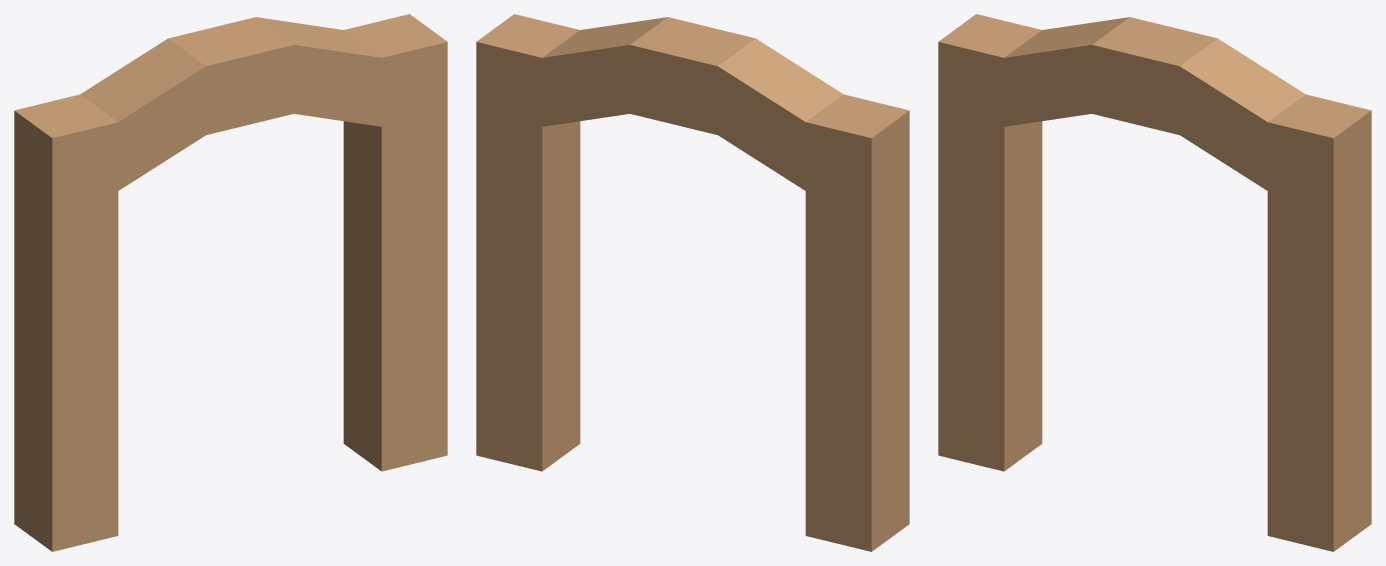
The model's file is arch_sebastian.glb.
3 views of the same model, side by side, from view 1: azimuth 30°, elevation 25°; view 2: azimuth 150°, elevation 25°; view 3: azimuth 330°, elevation 25° (orthographic).
Visible parts, largest first — view 1: Plane; view 2: Plane; view 3: Plane.
Boxes of the visible parts, left/top/right/bottom form: Plane: left=14, top=14, right=447, bottom=551; Plane: left=476, top=14, right=909, bottom=551; Plane: left=938, top=14, right=1371, bottom=551.
Size of the model in its own units: 6 by 6.5 by 1.
